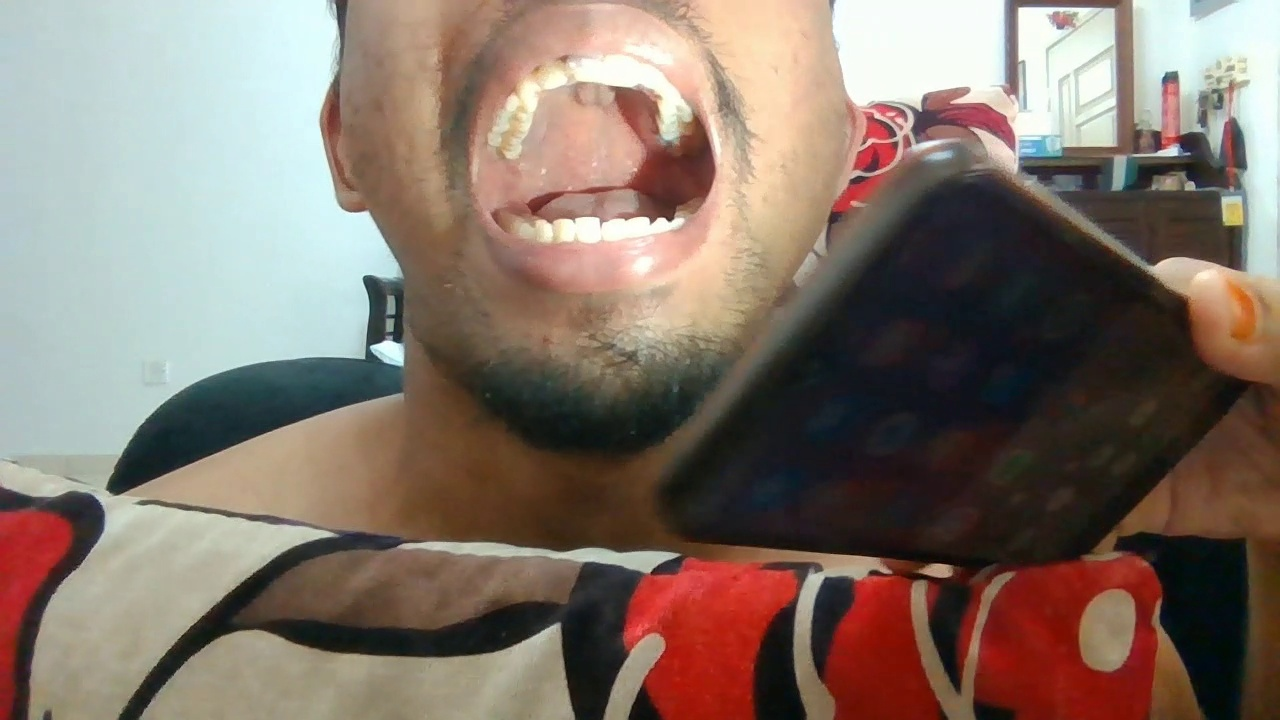1st Molar: (659, 123, 698, 137), (488, 131, 524, 146)
1st Premolar: (657, 98, 693, 114), (507, 96, 535, 116)
2nd Premolar: (493, 112, 531, 132), (658, 114, 695, 123)
Canine: (515, 77, 539, 107), (534, 219, 554, 242), (651, 215, 670, 236), (660, 85, 681, 100)
Central Incisor: (605, 52, 641, 87), (566, 54, 604, 83), (573, 215, 602, 243), (601, 218, 628, 243)
Lateral Incisor: (641, 61, 669, 97), (534, 60, 566, 91), (551, 217, 573, 244), (628, 215, 650, 237)
